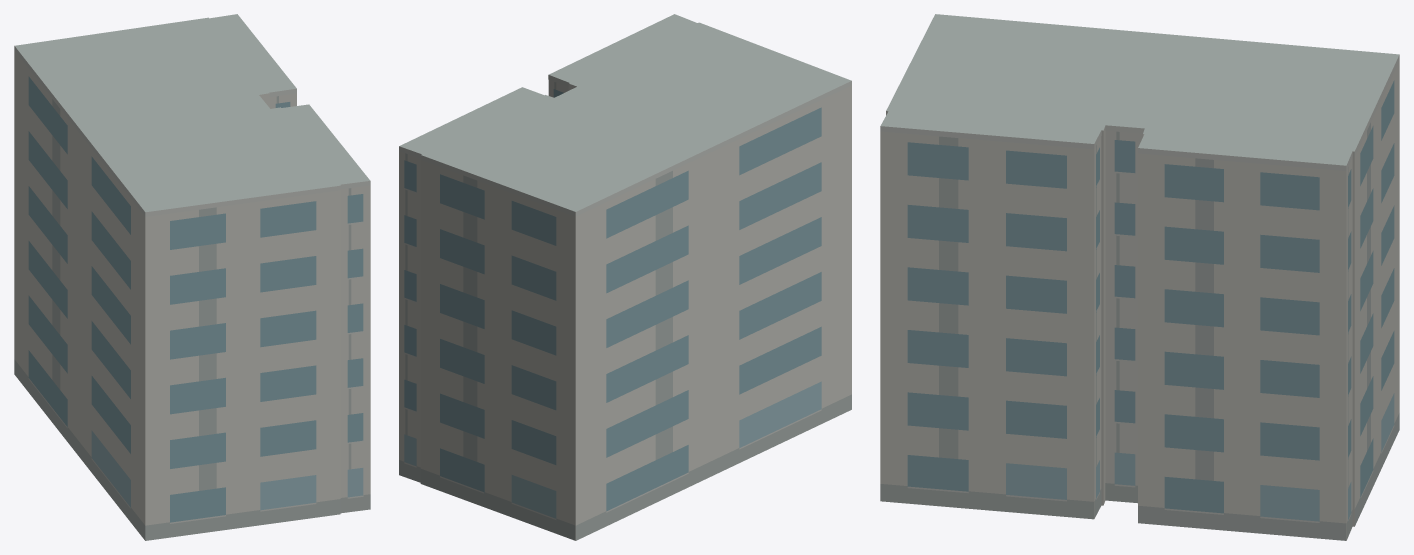
The model's file is survey-upis-32665018.glb.
3 views of the same model, side by side, from view 1: azimuth 30°, elevation 25°; view 2: azimuth 150°, elevation 25°; view 3: azimuth 270°, elevation 25° (orthographic). The views are drawn at different scales.
Visible parts, largest first — view 1: survey-upis-32665018.tmp; view 2: survey-upis-32665018.tmp; view 3: survey-upis-32665018.tmp.
Part boxes in pixels (x1,y1,x2,y2): survey-upis-32665018.tmp: (14,14,370,540); survey-upis-32665018.tmp: (399,14,851,540); survey-upis-32665018.tmp: (880,14,1399,540).
Size of the model in its own units: 14.49 by 16.7 by 20.96.
